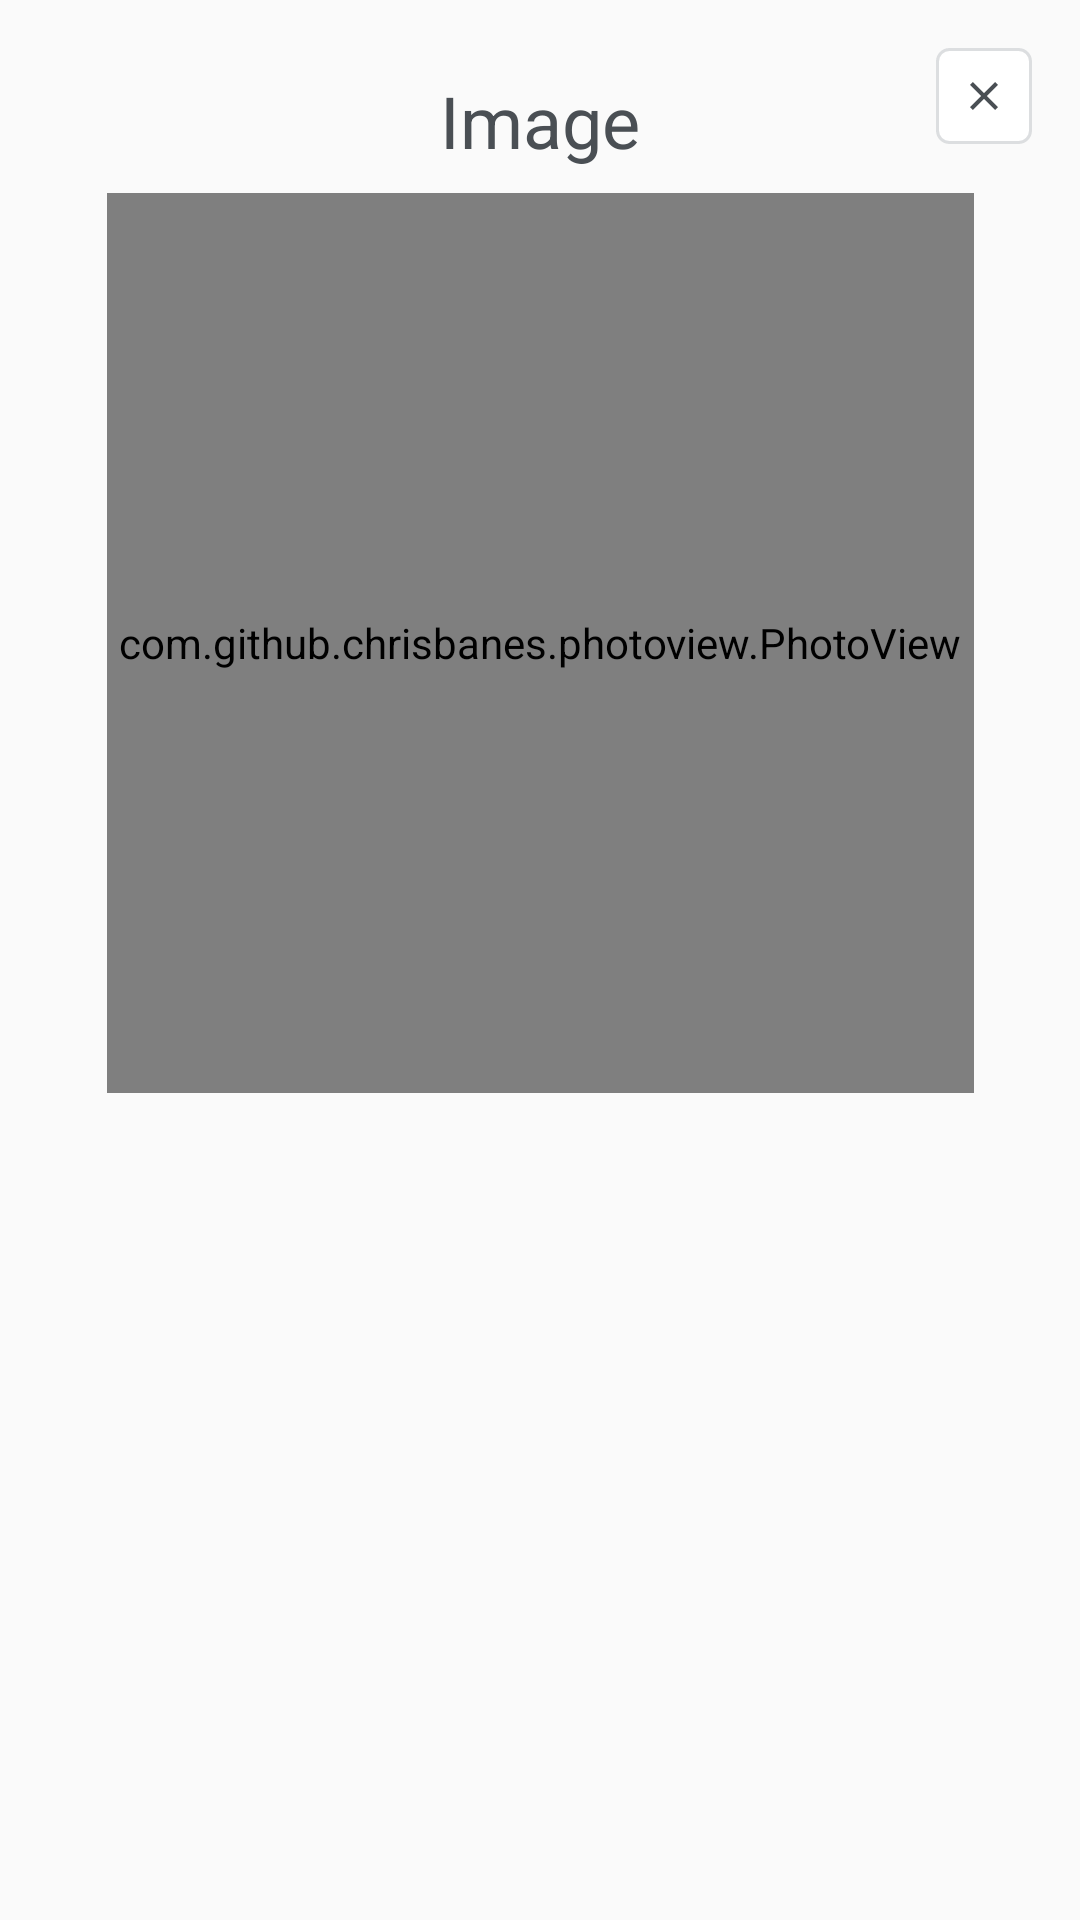

Named icons in this screenshot (1080 x 1920) and their centers, [x,y]:
Close: [984,96]
